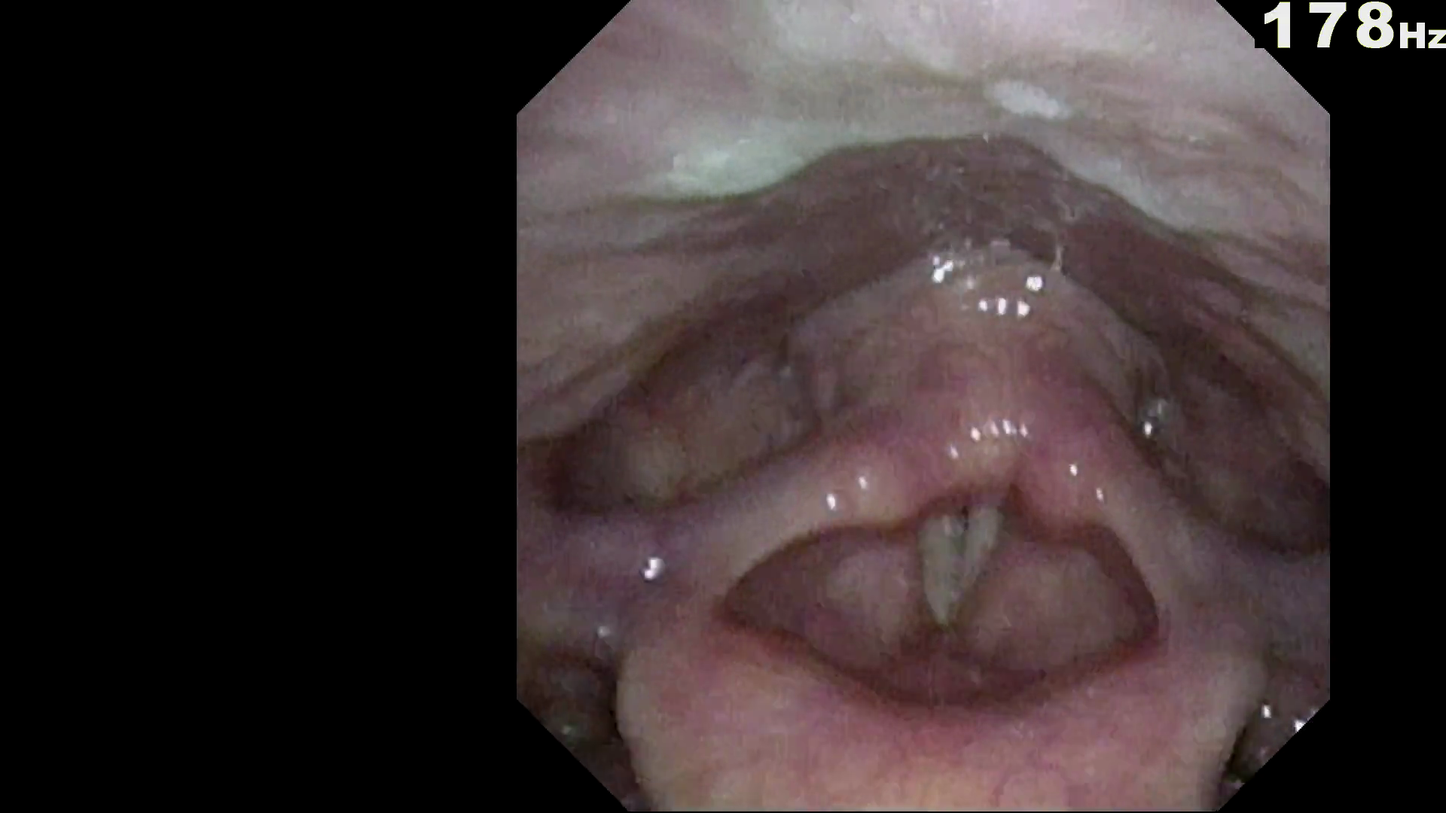epiglottis: (663, 477, 1207, 668)
trachea: (900, 440, 1055, 523)
